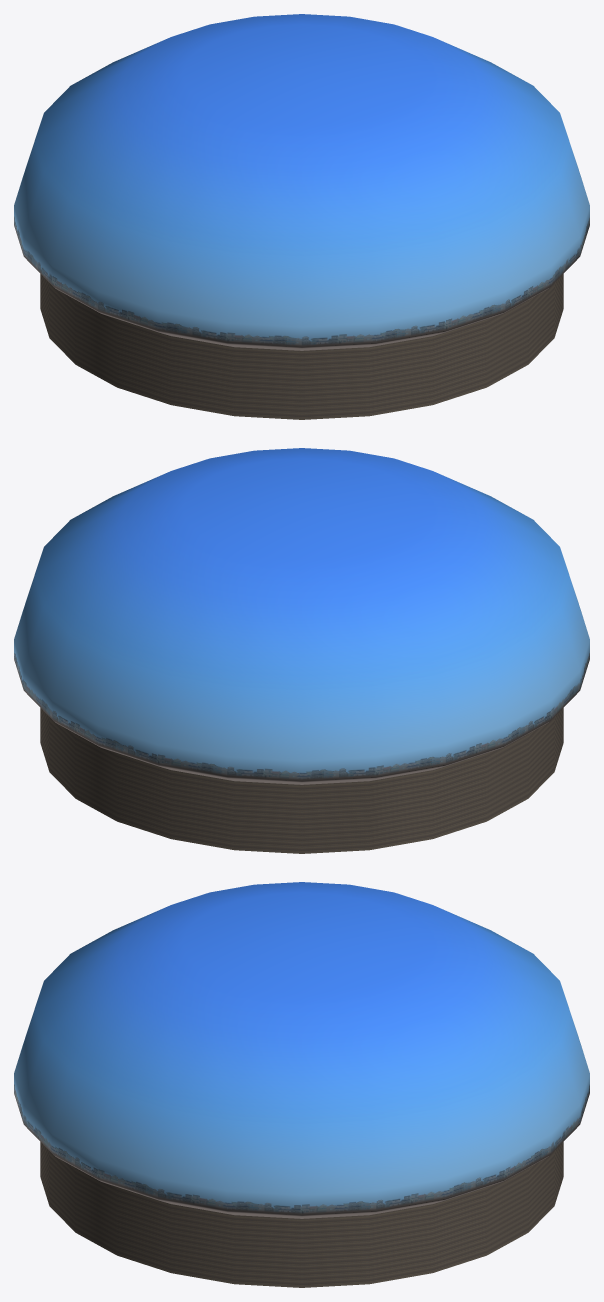
Rendered from s_1_sky.fbx.
3 views of the same model, one above another, from view 1: azimuth 30°, elevation 25°; view 2: azimuth 150°, elevation 25°; view 3: azimuth 270°, elevation 25° (orthographic).
Parts seen in each view (by area): view 1: obj_st1_sky, obj_st1_cliff_01; view 2: obj_st1_sky, obj_st1_cliff_01; view 3: obj_st1_sky, obj_st1_cliff_01.
Part boxes in pixels (x1=…): obj_st1_sky: x1=14, y1=14, x2=589, y2=350; obj_st1_cliff_01: x1=40, y1=274, x2=563, y2=419; obj_st1_sky: x1=14, y1=448, x2=589, y2=784; obj_st1_cliff_01: x1=40, y1=708, x2=563, y2=853; obj_st1_sky: x1=14, y1=882, x2=589, y2=1218; obj_st1_cliff_01: x1=40, y1=1142, x2=563, y2=1287.
Bounding box in the file's own units: 210 × 96.58 × 210.
Materials: 2 (2 with a texture image).
